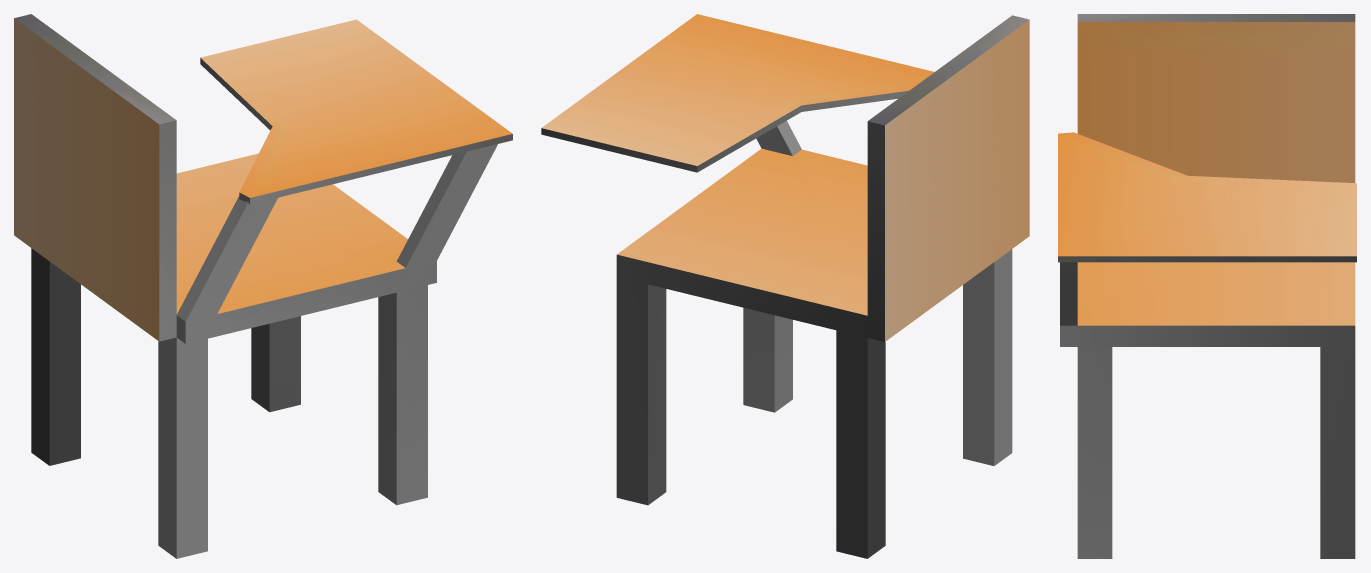
File: Silla.fbx
The picture shows the model from 3 angles, left to right: view 1: azimuth 30°, elevation 25°; view 2: azimuth 150°, elevation 25°; view 3: azimuth 270°, elevation 25°; orthographic projection. The views are drawn at different scales.
Parts seen in each view (by area): view 1: Cube; view 2: Cube; view 3: Cube.
Part boxes in pixels (<box>): Cube: <box>14,14,512,558</box>; Cube: <box>541,14,1029,558</box>; Cube: <box>1058,14,1356,558</box>.
Size of the model in its own units: 273 by 334 by 215.
